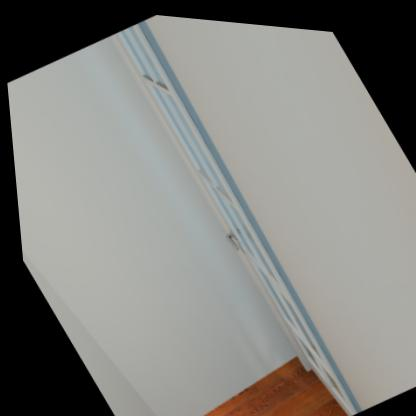Wooden floor: (192, 353, 342, 416)
